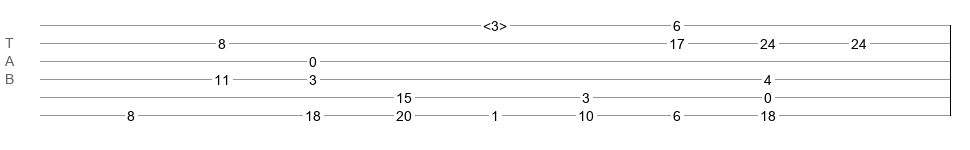0: (309, 54, 317, 64), (764, 90, 772, 100)
1: (491, 108, 499, 118)
10: (578, 108, 594, 118)
11: (214, 72, 230, 82)
15: (396, 90, 412, 100)
17: (669, 36, 685, 46)
18: (305, 108, 321, 118), (760, 108, 776, 118)
20: (396, 108, 412, 118)
24: (760, 36, 776, 46), (851, 36, 867, 46)
3: (309, 72, 317, 82), (582, 90, 590, 100)
4: (764, 72, 772, 82)
6: (673, 18, 681, 28), (673, 108, 681, 118)
8: (127, 108, 135, 118), (218, 36, 226, 46)
harmonic: (483, 18, 507, 28)
